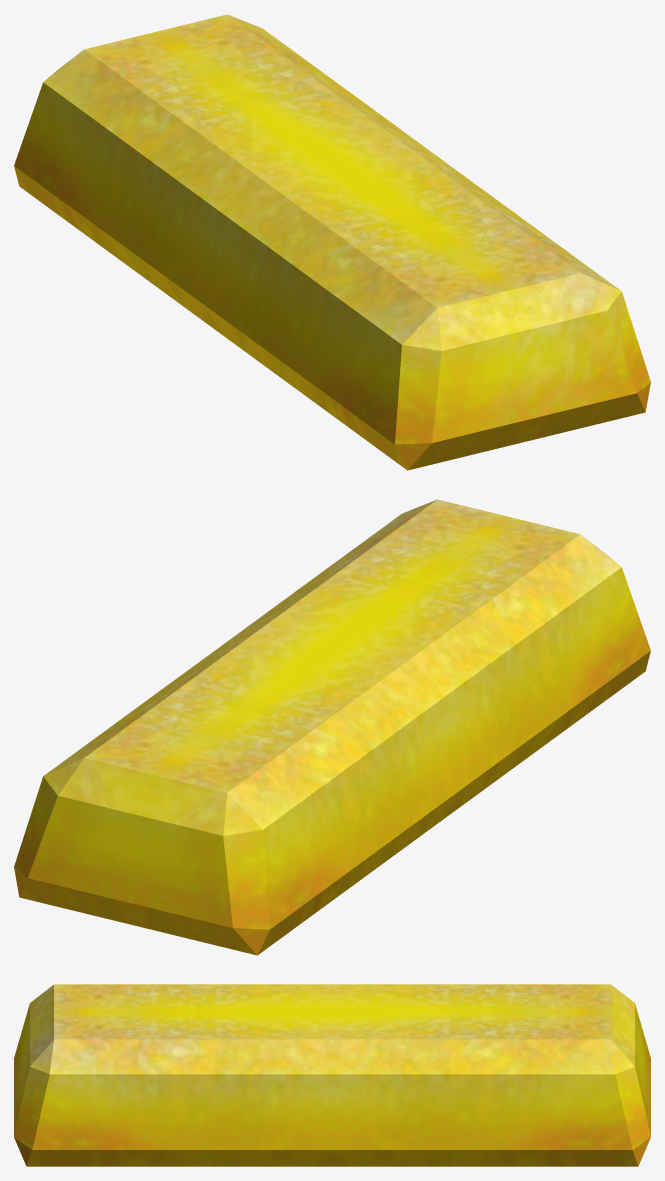
Rendered from gold.fbx.
The picture shows the model from 3 angles, top to bottom: view 1: azimuth 30°, elevation 25°; view 2: azimuth 150°, elevation 25°; view 3: azimuth 270°, elevation 25°; orthographic projection. The views are drawn at different scales.
Parts seen in each view (by area): view 1: Cube; view 2: Cube; view 3: Cube.
Part boxes in pixels (x1=…): Cube: x1=14, y1=14, x2=650, y2=470; Cube: x1=14, y1=499, x2=650, y2=955; Cube: x1=14, y1=984, x2=650, y2=1166.
Size of the model in its own units: 0.0985 by 0.0508 by 0.2693.
